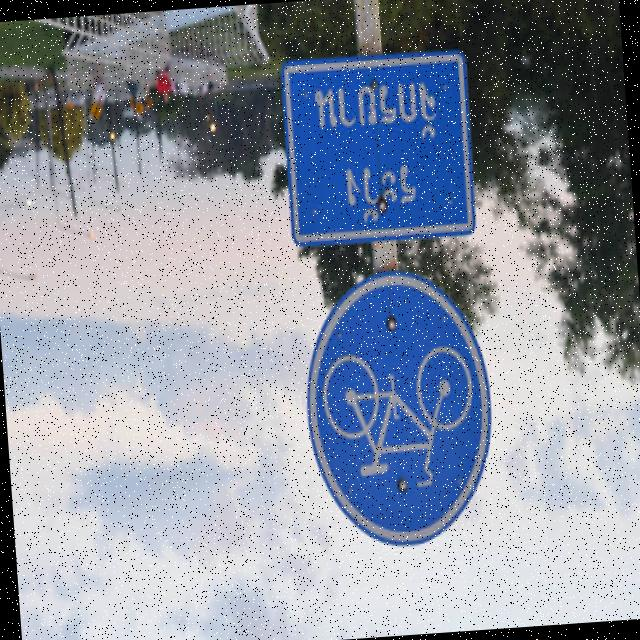bicycle: (294, 254, 505, 564)
